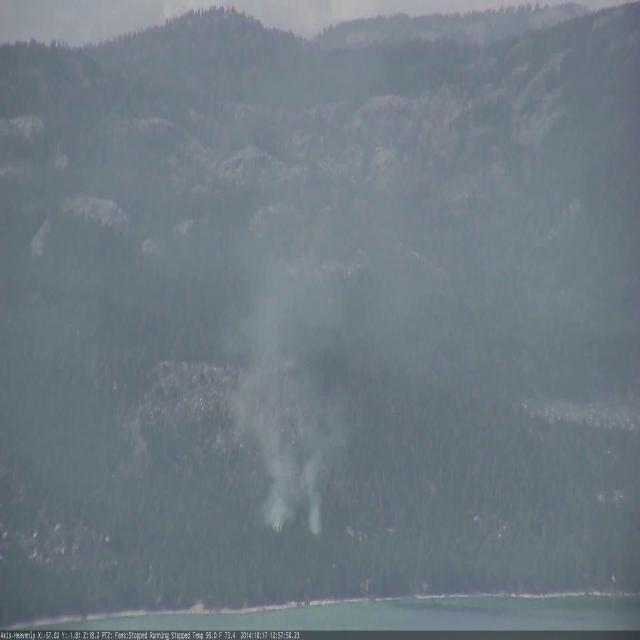smoke: (225, 162, 556, 530)
